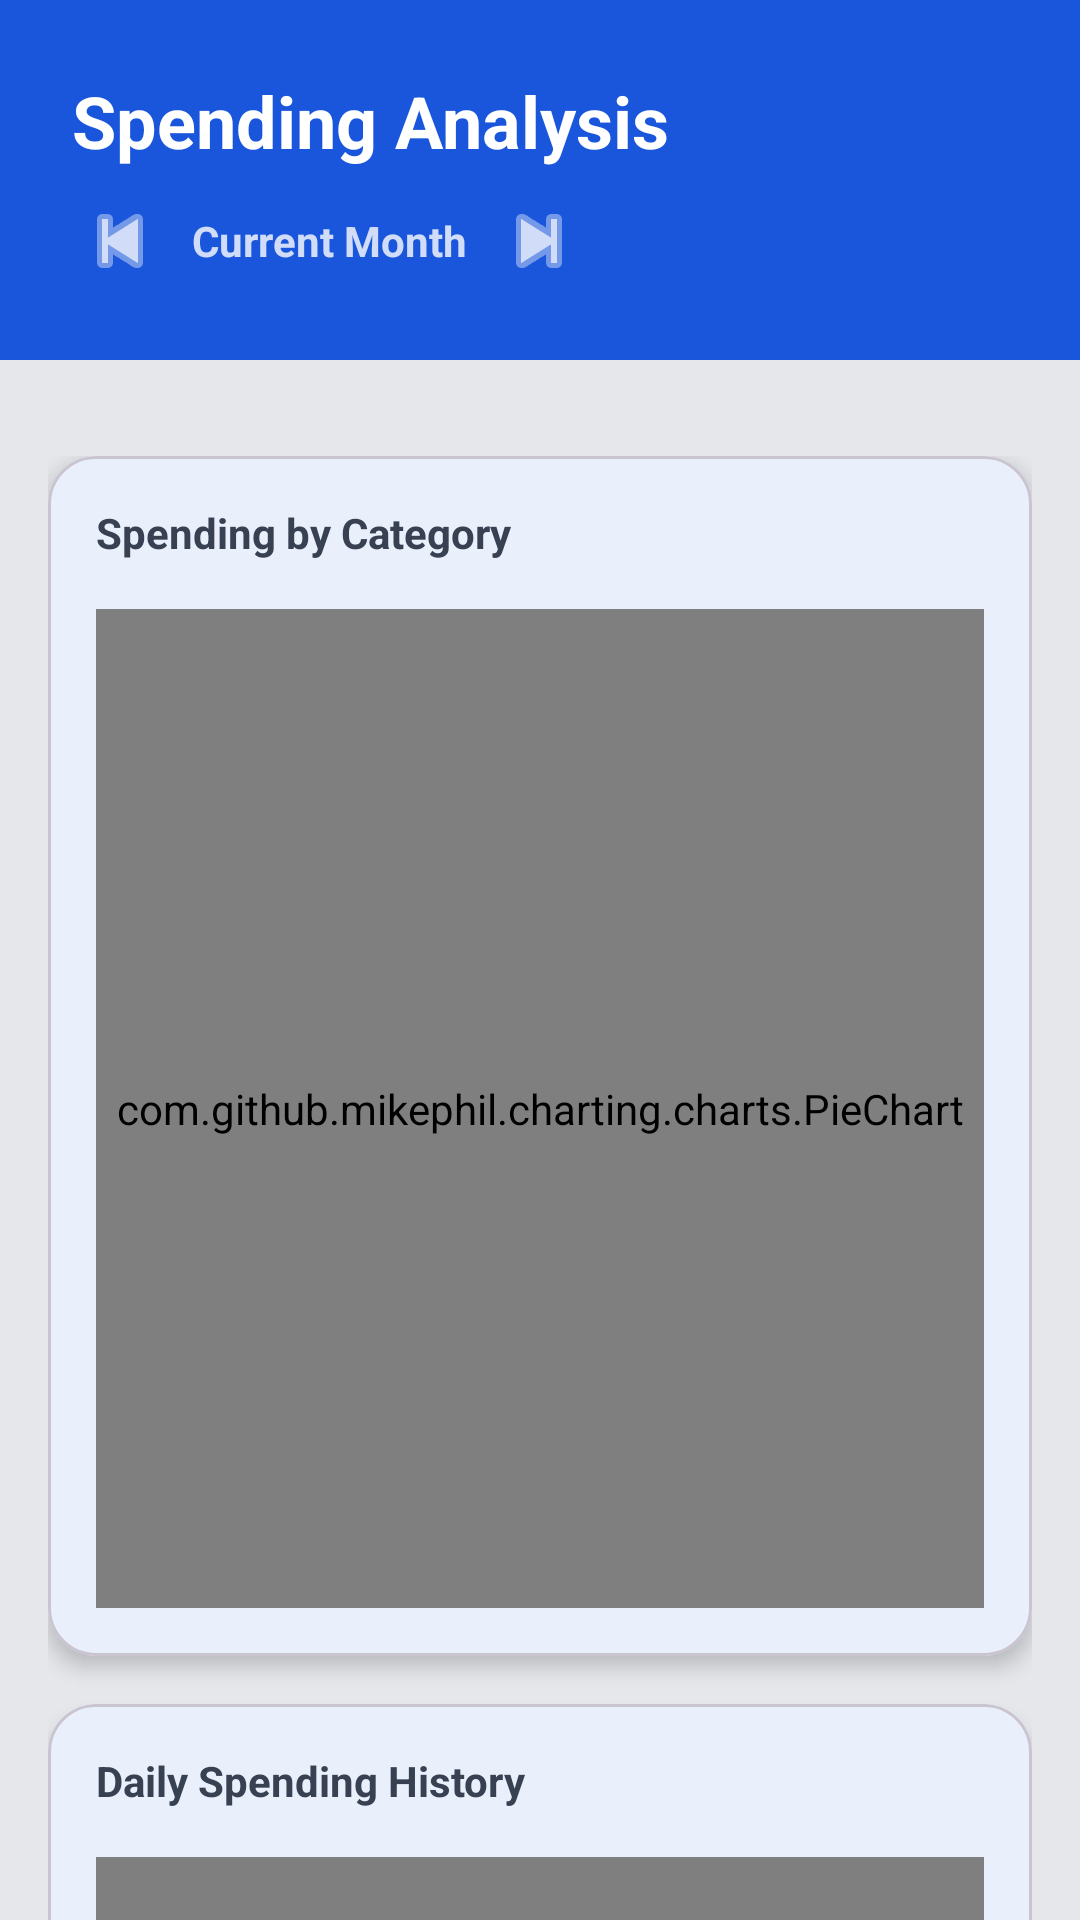

Screen size 1080×1920. Icon name, then its center in pixels as [x,y]:
Next Month: [539,241]
Previous Month: [120,241]
